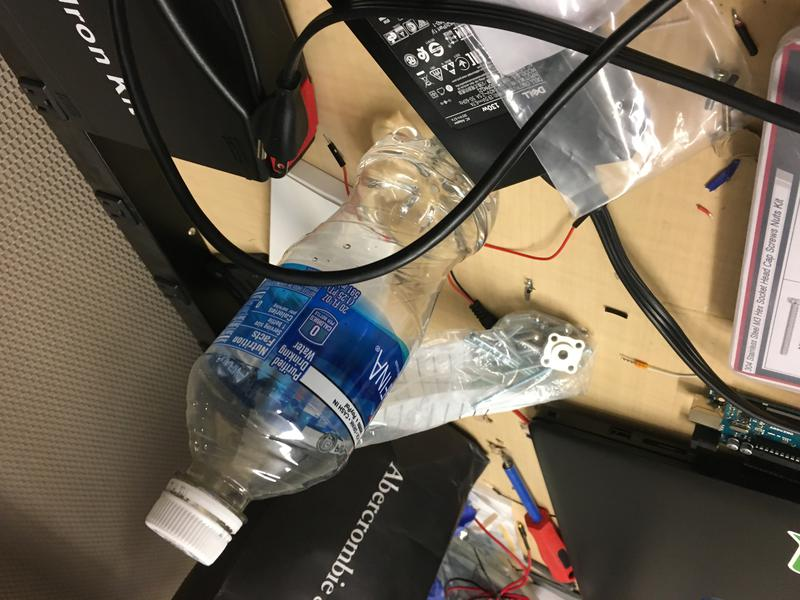bottle: (143, 125, 500, 567)
